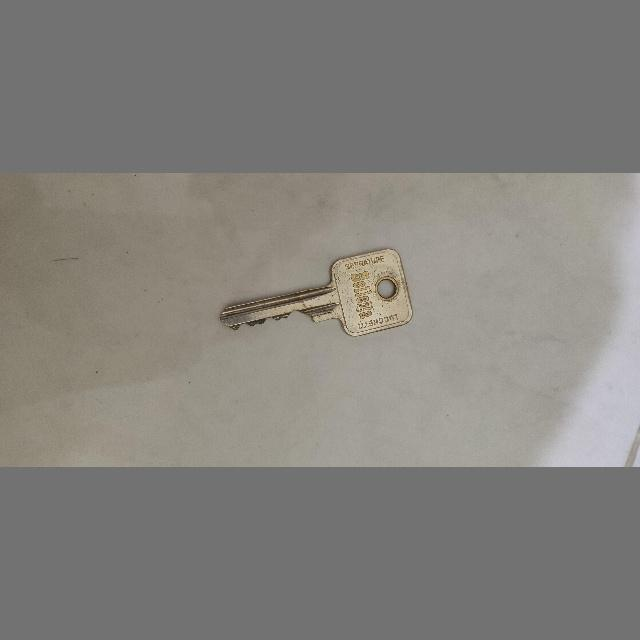Keys: (216, 242, 420, 344)
